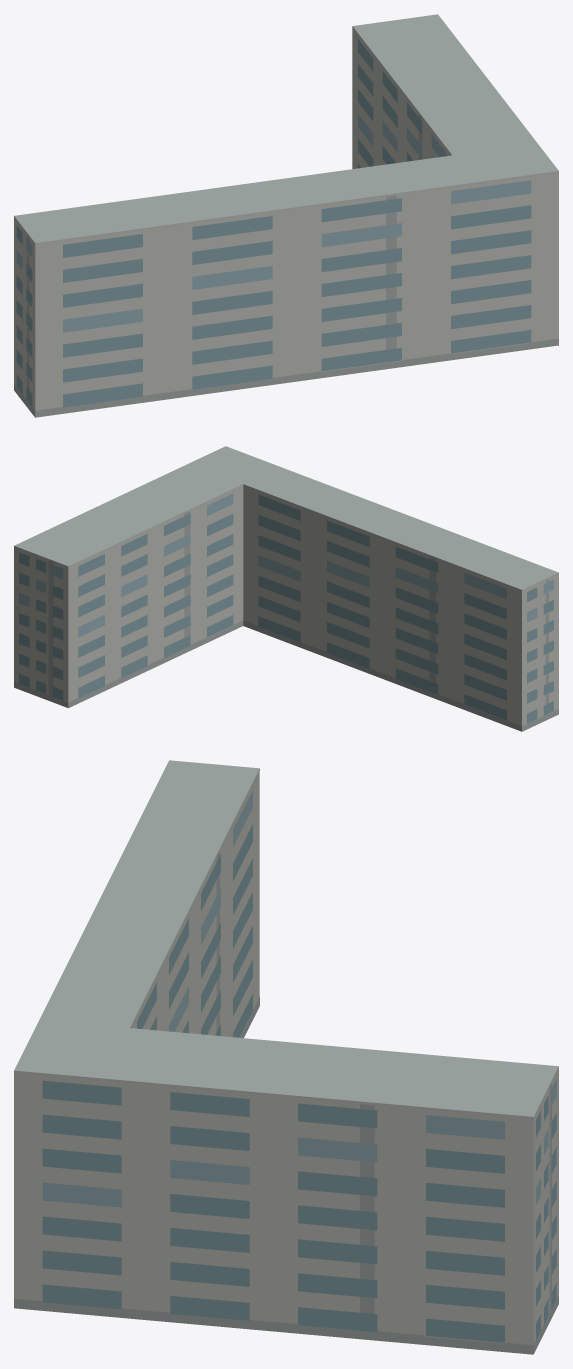
The model's file is residential-daac40b4-a6eb-4c39-b386-873ae43ff907.glb.
3 renders of one model, top to bottom at view 1: azimuth 30°, elevation 25°; view 2: azimuth 150°, elevation 25°; view 3: azimuth 270°, elevation 25°, orthographic. The views are drawn at different scales.
Visible parts, largest first — view 1: residential-daac40b4-a6eb-4c39-b386-873ae43ff907.tmp; view 2: residential-daac40b4-a6eb-4c39-b386-873ae43ff907.tmp; view 3: residential-daac40b4-a6eb-4c39-b386-873ae43ff907.tmp.
Boxes of the visible parts, box(x1,y1,x2,y2) form: residential-daac40b4-a6eb-4c39-b386-873ae43ff907.tmp: box(14, 14, 558, 417); residential-daac40b4-a6eb-4c39-b386-873ae43ff907.tmp: box(14, 446, 558, 731); residential-daac40b4-a6eb-4c39-b386-873ae43ff907.tmp: box(14, 760, 558, 1354).
Size of the model in its own units: 67.57 by 21 by 43.63.
